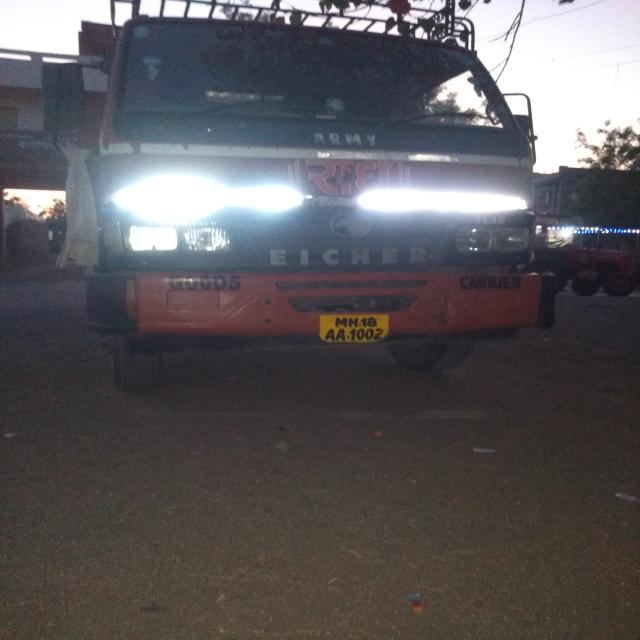Number_Plate_Detected: (318, 312, 392, 346)
